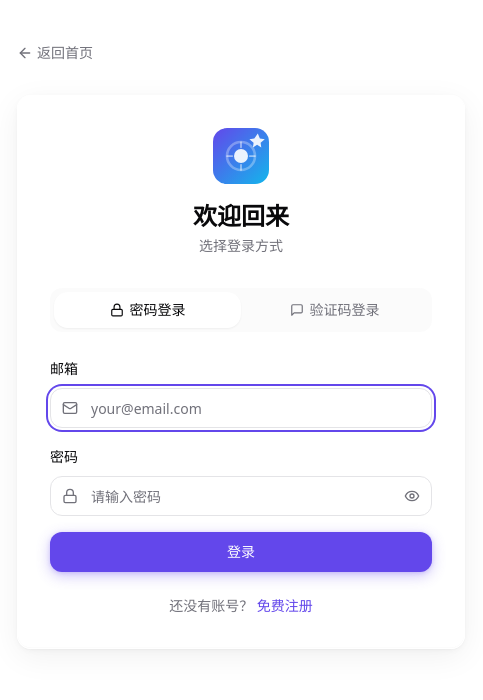
登录页面 - LoginPage › Tab 切换 › 切换 Tab 时应清除错误信息
The width and height of the screenshot is (483, 700).
Type "test@example.com" into the field with test id "login-email" at (241, 408), box [50,388,432,428]
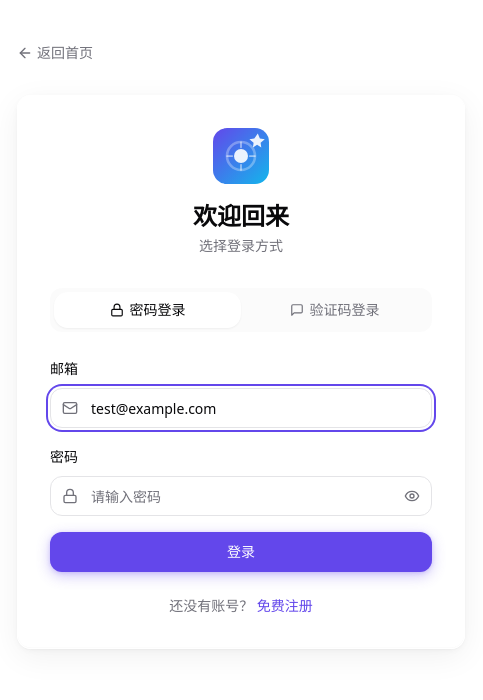
Type "wrongpass" into the password field with test id "login-password" at (241, 496), box [50,476,432,516]
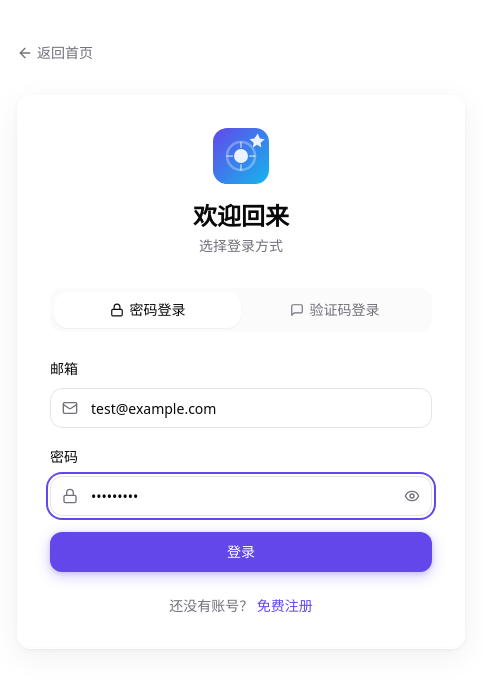
Click the button with test id "login-submit" at (241, 552), box [50,532,432,572]
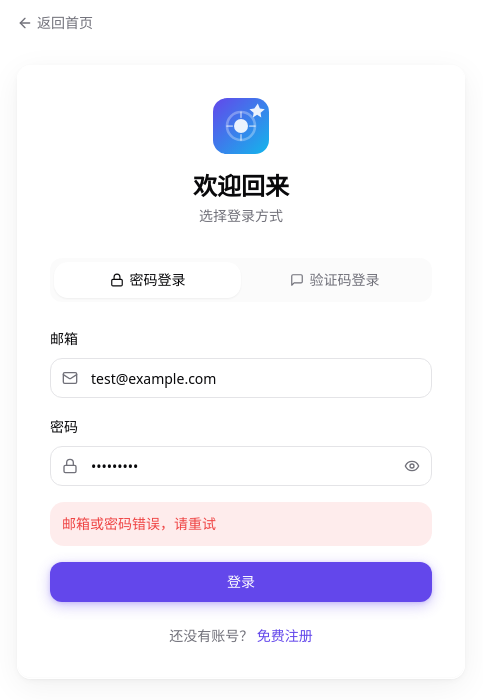
Now the text "邮箱或密码错误，请重试" is shown, box [50,502,432,546]
Click the tab with test id "tab-otp" at (334, 280), box [241,262,428,298]
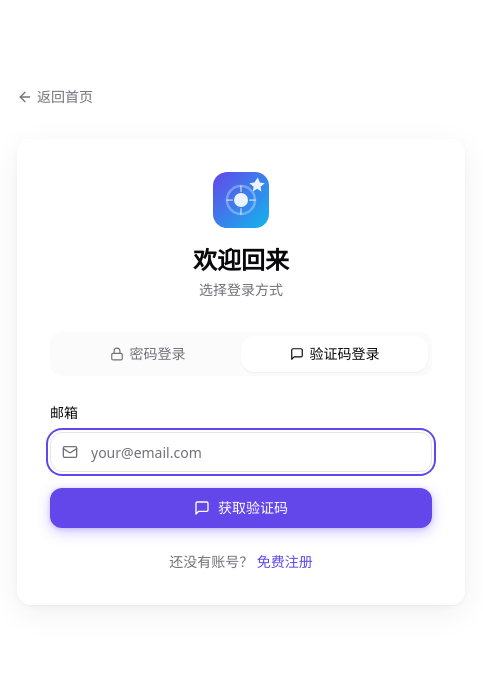
Now the text with test id "login-error" is gone
